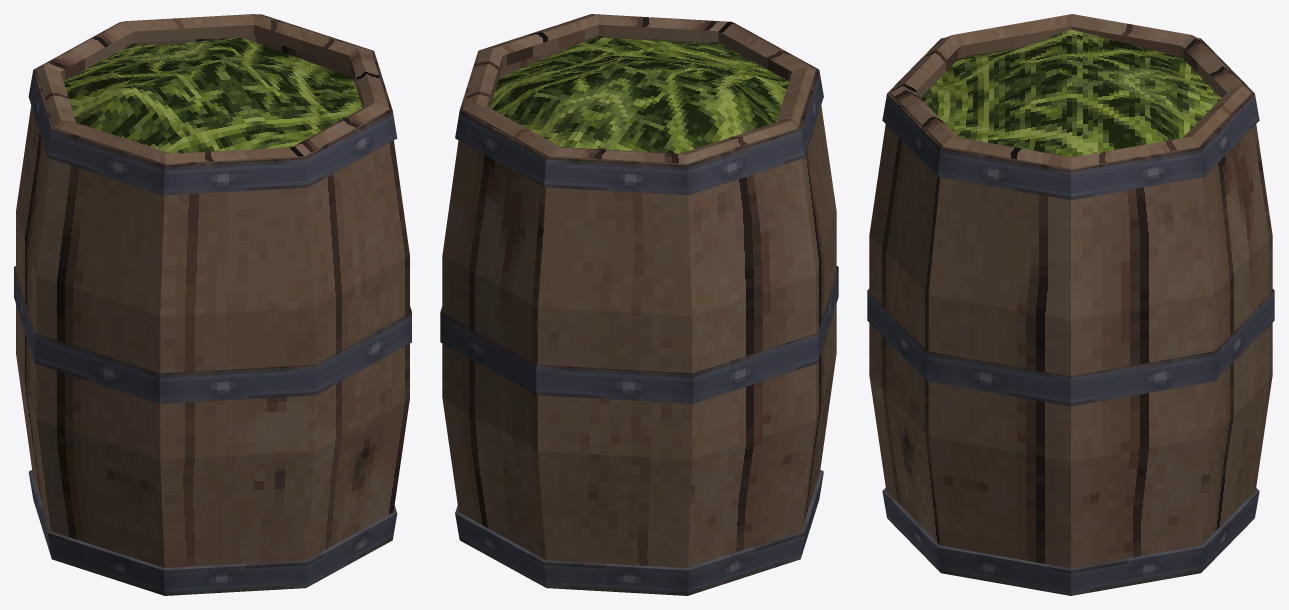
The model's file is barrel_beans.glb.
3 views of the same model, side by side, from view 1: azimuth 30°, elevation 25°; view 2: azimuth 150°, elevation 25°; view 3: azimuth 270°, elevation 25° (orthographic).
Parts seen in each view (by area): view 1: barrel_beans; view 2: barrel_beans; view 3: barrel_beans.
Part boxes in pixels (box(x1,y1,x2,y2)): barrel_beans: box(14, 14, 411, 595); barrel_beans: box(440, 14, 838, 595); barrel_beans: box(867, 14, 1274, 595).
Bounding box in the file's own units: 0.9799 × 1.19 × 0.9799.
Materials: 3 (3 with a texture image).
